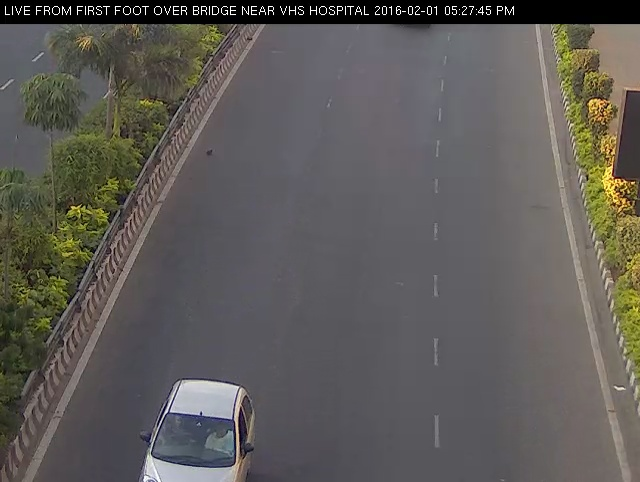Car: (137, 367, 259, 480)
